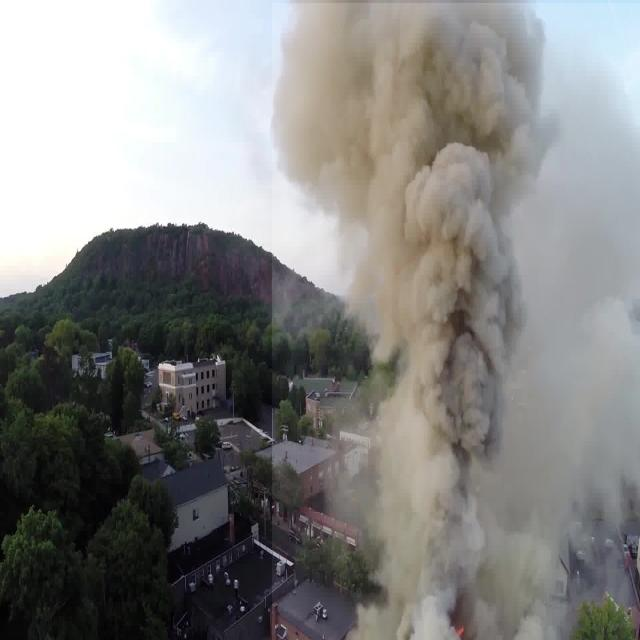Smoke: (272, 3, 640, 640)
